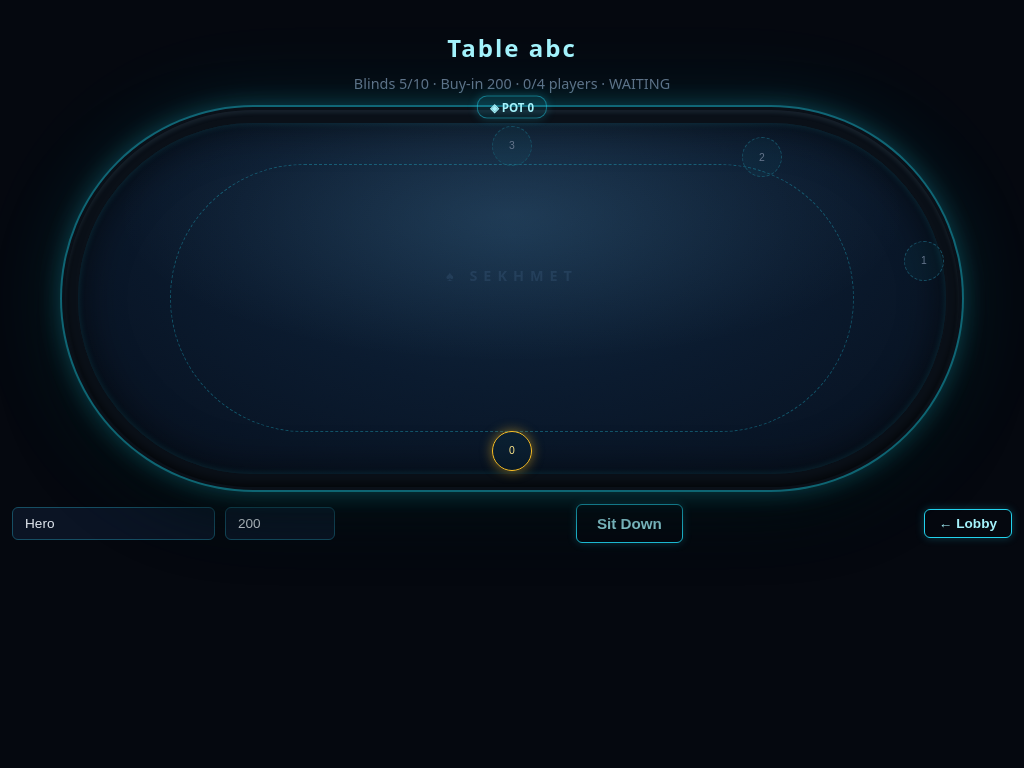
Test: rival grabbing the seat first must not strand us in the table view
Note: wait for the join panel (detail fetch resolves) and open the socket
Click the button "Sit Down".
click(629, 523)  # box x1=576 y1=504 x2=683 y2=543
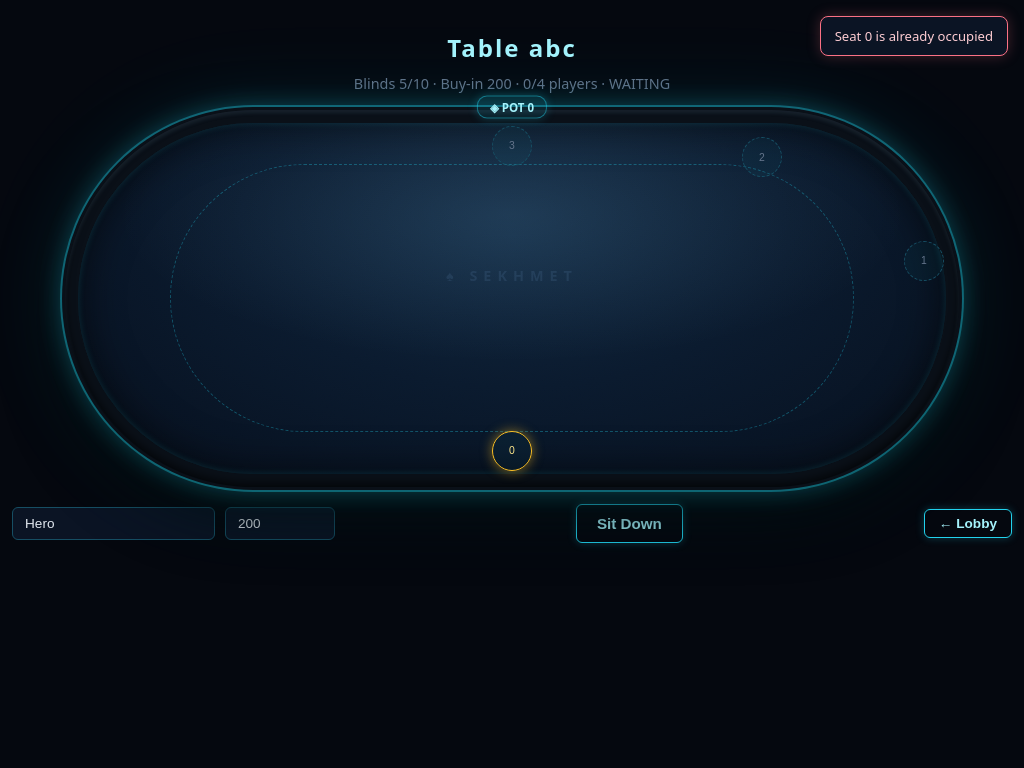
expect the text "Seat 0 is already occupied" is shown: met, box x1=820 y1=16 x2=1008 y2=56
